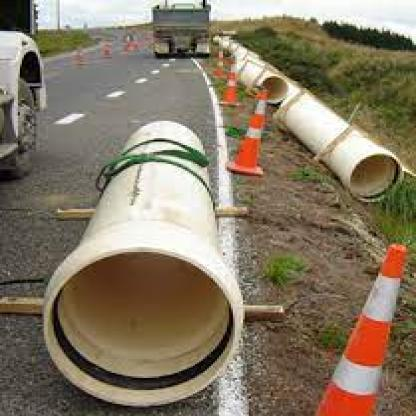PVC: (44, 120, 243, 405), (215, 38, 407, 202)
